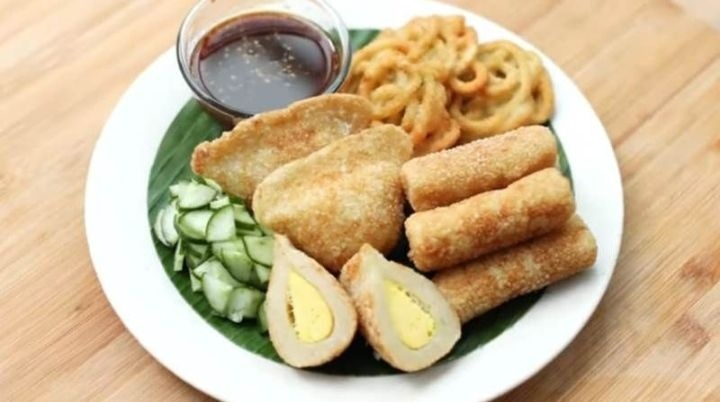pempek: (171, 14, 601, 371)
